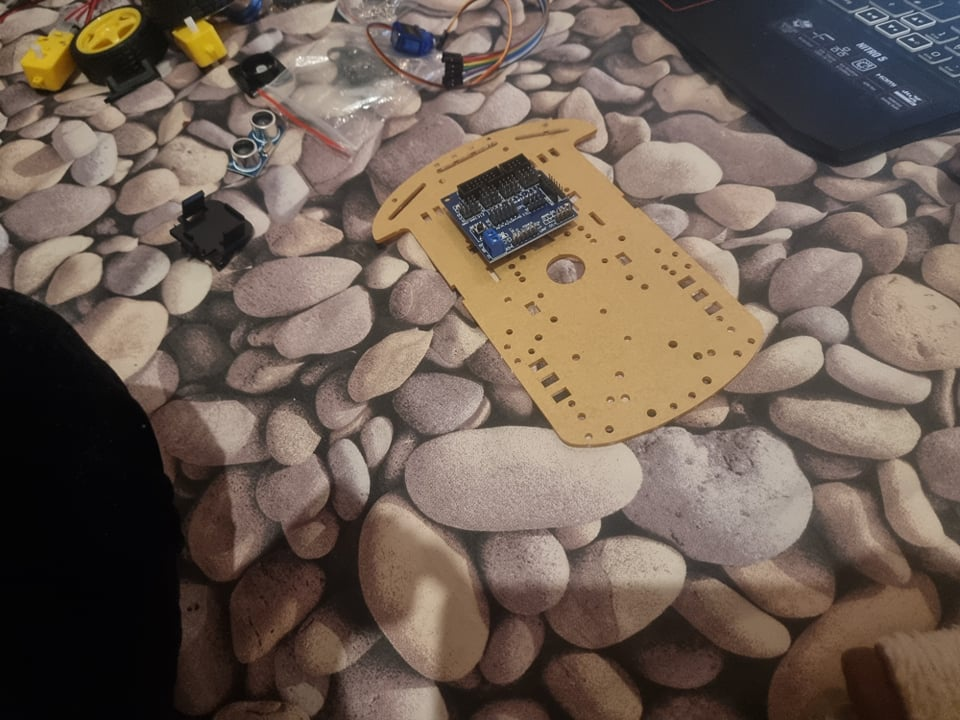5V EXPANSION: (437, 153, 580, 265)
SENSOR: (225, 104, 283, 179)
